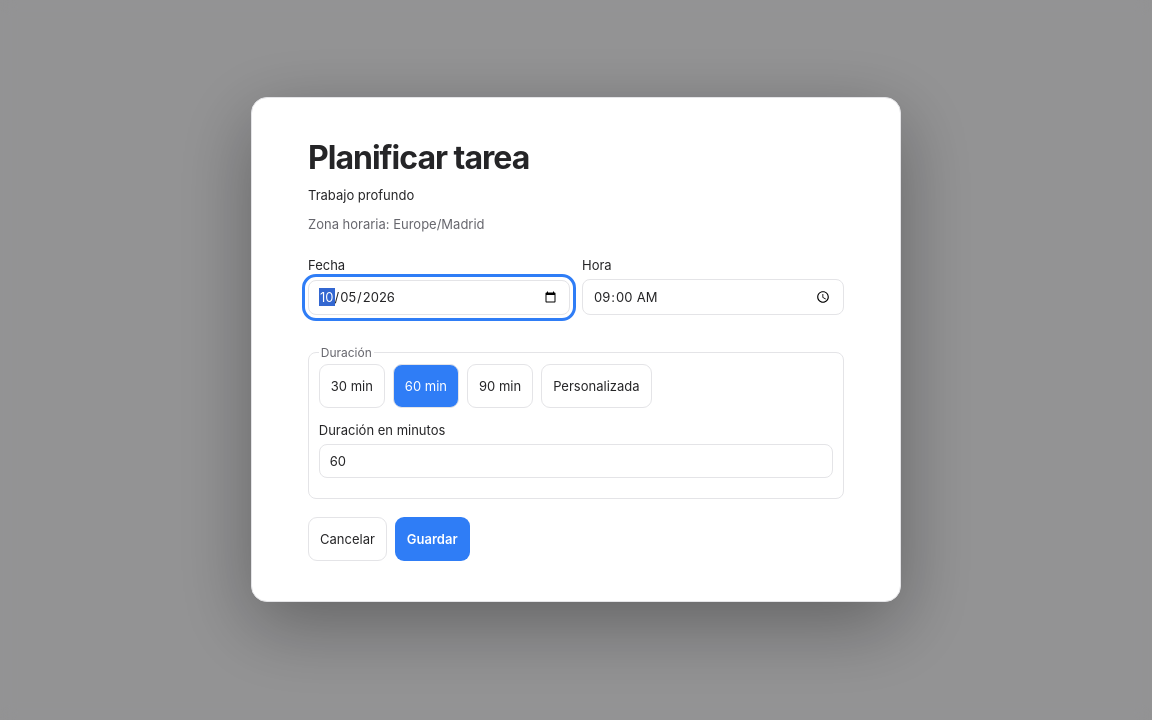
Test: schedule command paths and validation › rejects invalid duration without mutation
Replace the text in the number field labelled "Duración en minutos" with "0" at (576, 461), box [319, 444, 833, 478]
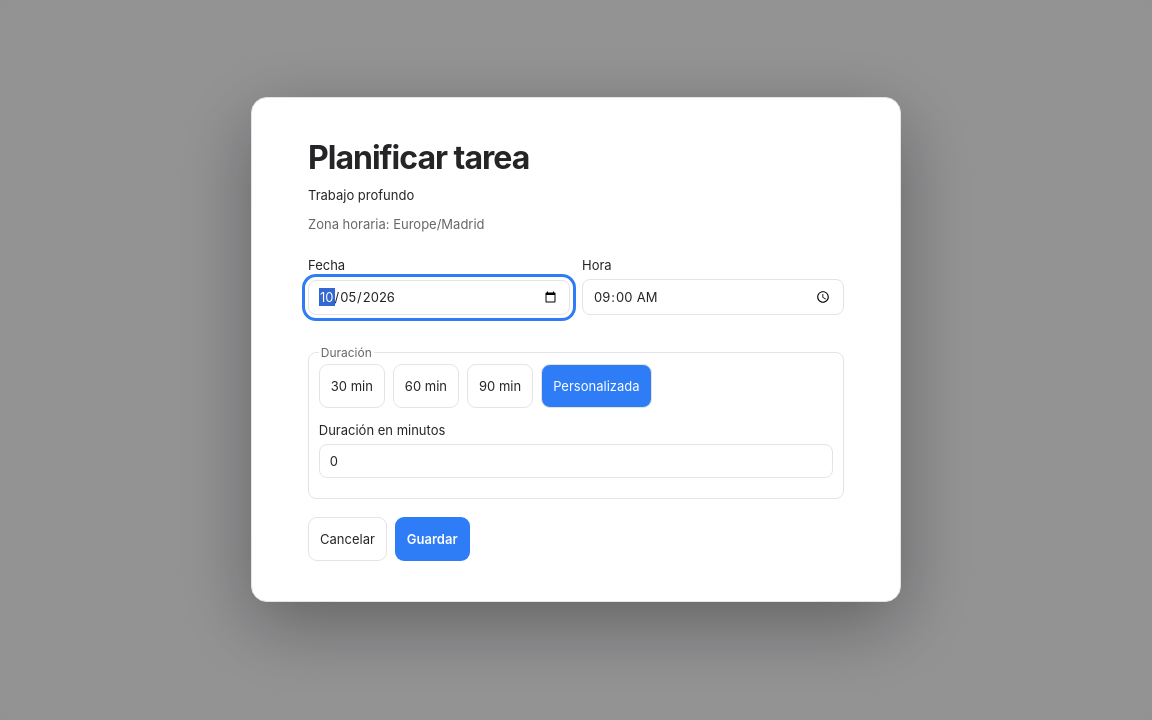
Submit the form named "Guardar", box [296, 126, 856, 573]
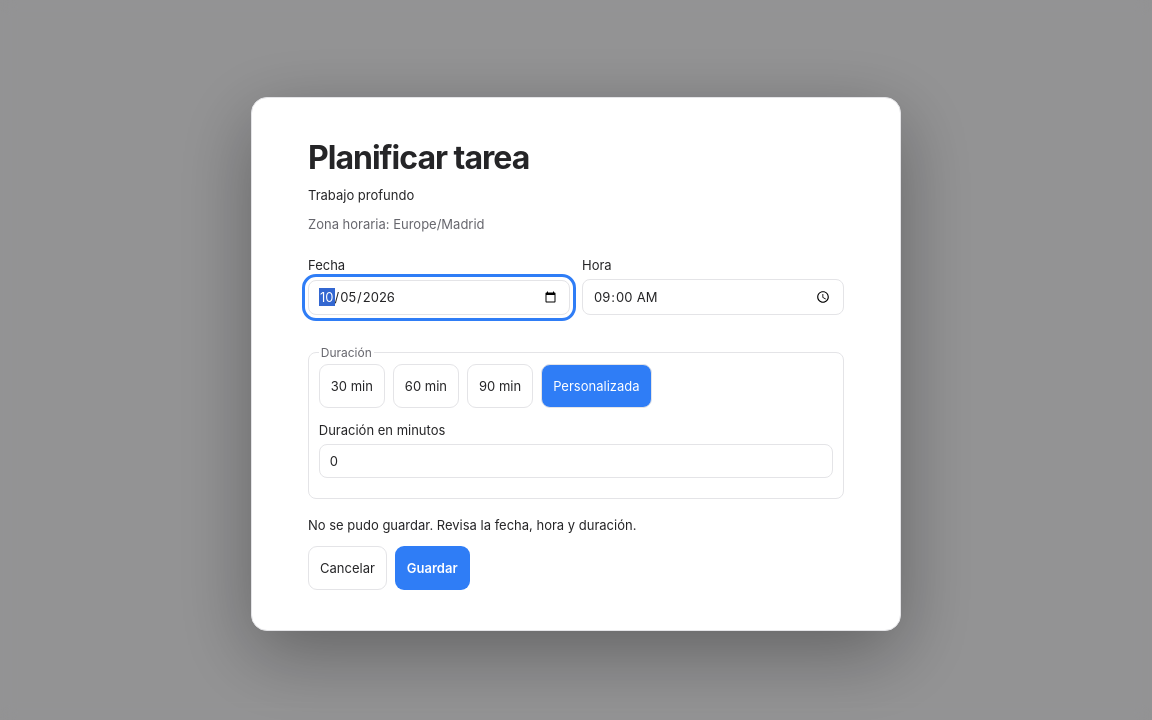
expect the message "No se pudo guardar. Revisa la fecha, hora y duración." is shown: met, box [308, 517, 636, 533]
